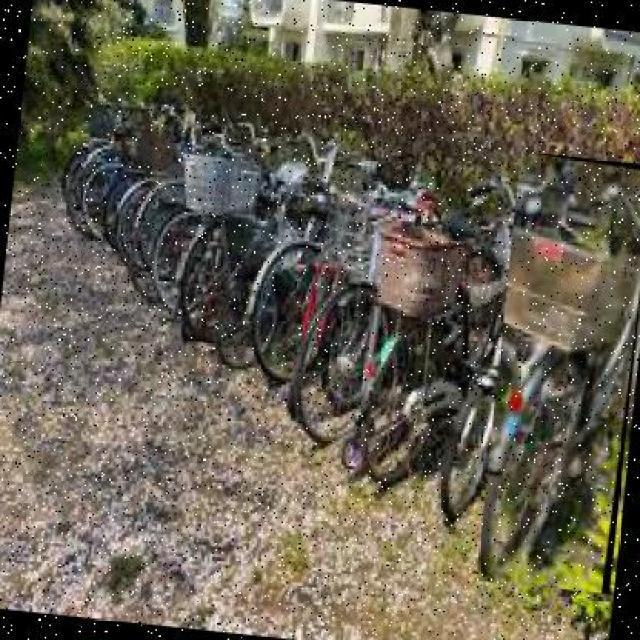bicycle: (477, 152, 640, 596)
